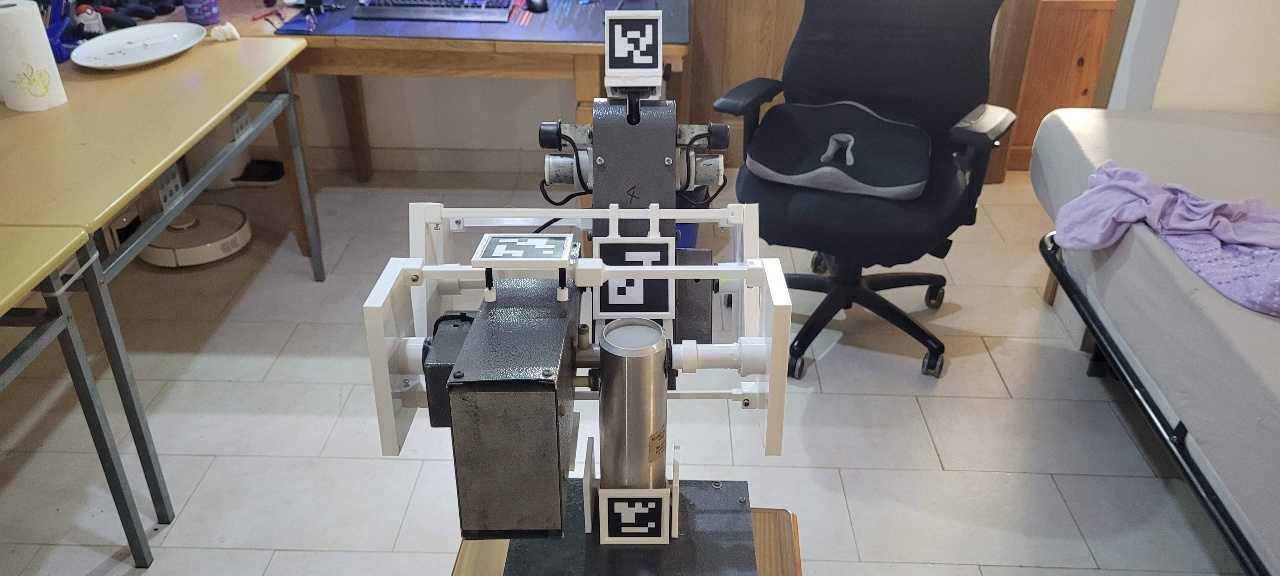Robot: (362, 9, 792, 547)
